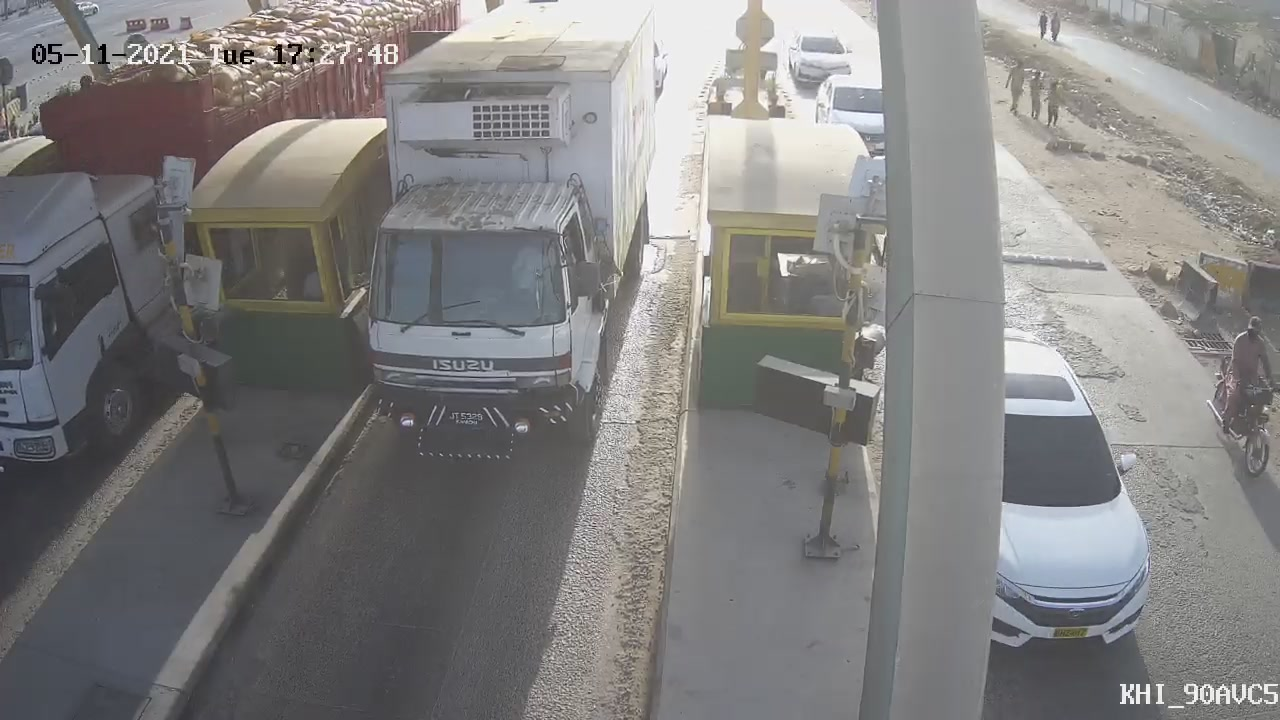F5: (305, 1, 676, 494)
